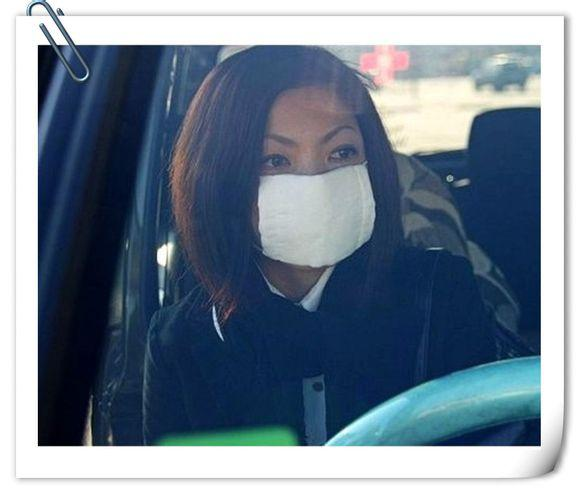OK: (236, 119, 383, 266)
